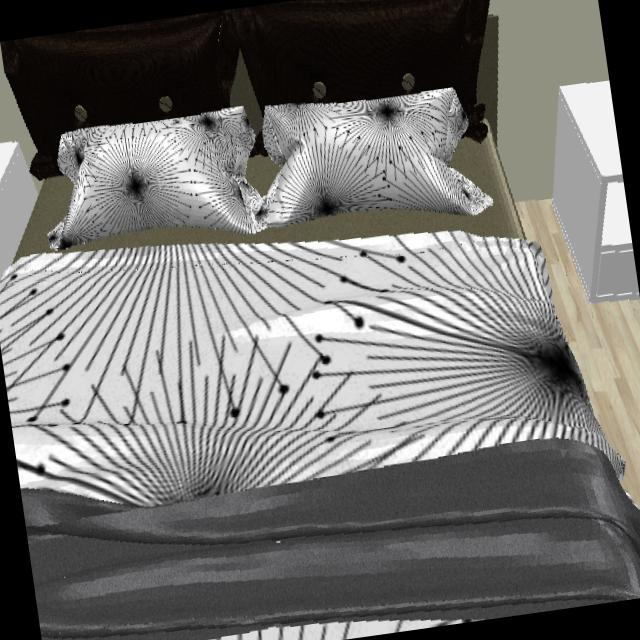nighttable: (556, 84, 635, 269), (0, 142, 45, 282)
